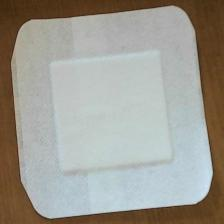Dressing: (11, 6, 219, 223)
